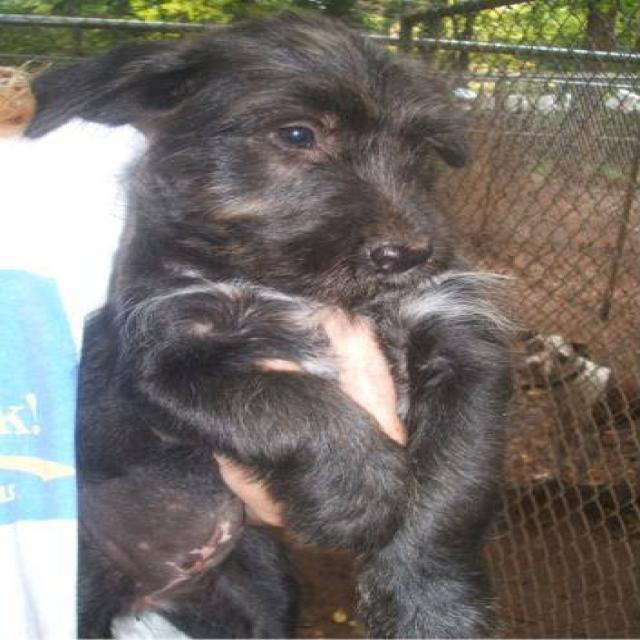dog: (17, 7, 520, 638)
